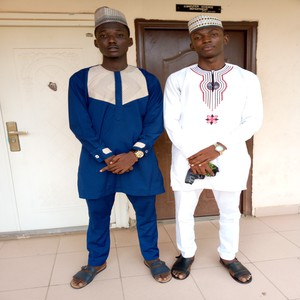Fulokoja_male_student: (69, 10, 169, 282), (171, 25, 252, 283)
